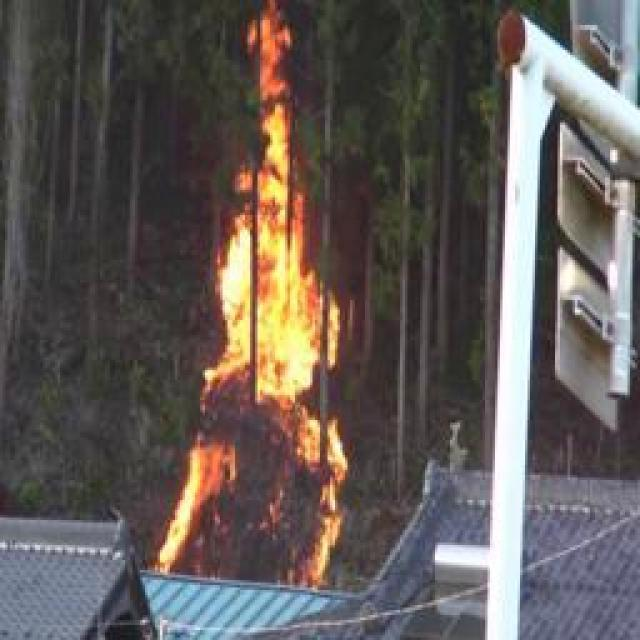Fire: (172, 31, 350, 585)
